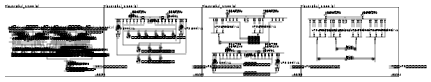door: (11, 37, 12, 38), (42, 48, 43, 49), (32, 37, 33, 38), (42, 37, 43, 38), (76, 37, 77, 38), (78, 37, 79, 38), (80, 37, 81, 38), (82, 37, 83, 38), (84, 37, 85, 38), (33, 38, 33, 38), (35, 38, 36, 38), (38, 38, 39, 38), (41, 38, 42, 38), (41, 48, 41, 49), (22, 37, 22, 38), (59, 37, 59, 37), (52, 37, 53, 37), (87, 48, 88, 48), (88, 48, 89, 48), (64, 37, 64, 37), (68, 37, 69, 37), (75, 37, 76, 37), (80, 37, 81, 37), (83, 37, 83, 37), (91, 37, 92, 37), (87, 37, 87, 38), (89, 37, 89, 38), (91, 37, 91, 38), (71, 20, 71, 21), (95, 37, 95, 37)
room: (65, 7, 74, 19), (60, 26, 70, 35), (72, 26, 81, 35), (419, 10, 430, 13), (312, 10, 322, 13), (96, 10, 106, 13), (204, 10, 214, 13), (85, 56, 93, 58), (21, 56, 29, 58), (67, 56, 75, 58), (4, 56, 11, 58), (39, 56, 46, 58), (50, 56, 57, 58), (144, 29, 148, 31), (156, 29, 160, 31), (168, 29, 172, 31), (55, 27, 57, 30), (58, 27, 60, 30), (66, 27, 68, 30), (73, 27, 75, 30), (78, 27, 80, 30), (84, 27, 86, 30), (82, 27, 84, 30), (144, 17, 148, 18), (156, 17, 160, 18), (144, 46, 148, 47), (168, 17, 172, 18), (133, 46, 137, 47), (163, 46, 167, 47), (152, 46, 156, 47), (182, 46, 186, 47), (171, 46, 175, 47), (261, 15, 265, 16), (261, 4, 265, 5), (62, 27, 63, 30), (371, 20, 374, 21), (371, 22, 374, 23), (371, 32, 374, 33), (371, 34, 374, 35), (265, 44, 268, 45), (265, 46, 268, 47), (265, 39, 268, 40), (265, 41, 268, 42), (66, 34, 68, 35), (73, 34, 75, 35), (78, 34, 80, 35), (342, 22, 344, 23), (342, 20, 344, 21), (402, 22, 404, 23), (402, 20, 404, 21), (362, 34, 364, 35), (362, 32, 364, 33), (381, 34, 383, 35), (381, 32, 383, 33), (234, 41, 236, 42), (234, 39, 236, 40), (274, 46, 276, 47), (274, 44, 276, 45), (62, 34, 63, 35)
wall: (422, 1, 430, 2), (314, 1, 322, 2), (98, 1, 106, 2), (206, 1, 214, 2), (171, 50, 174, 52), (145, 21, 147, 23), (157, 21, 159, 23), (145, 50, 147, 52), (169, 21, 171, 23), (134, 50, 136, 52), (164, 50, 166, 52), (153, 50, 155, 52), (183, 50, 185, 52), (145, 34, 147, 35), (157, 34, 159, 35), (169, 34, 171, 35)
